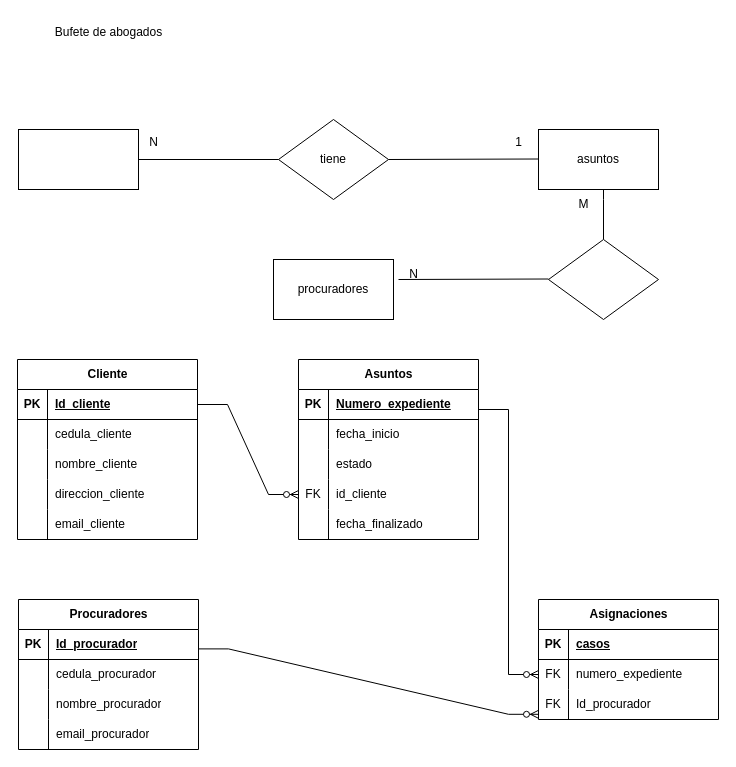
Some shapes in this 736 by 767 pixel diagram are drawn without their labels. The shapes that lost their labels are listed below. From the top down, each one's centre as x and y in pixels, then its label:
At (x=78, y=159): "clientes".
At (x=603, y=279): "le corresponde".
